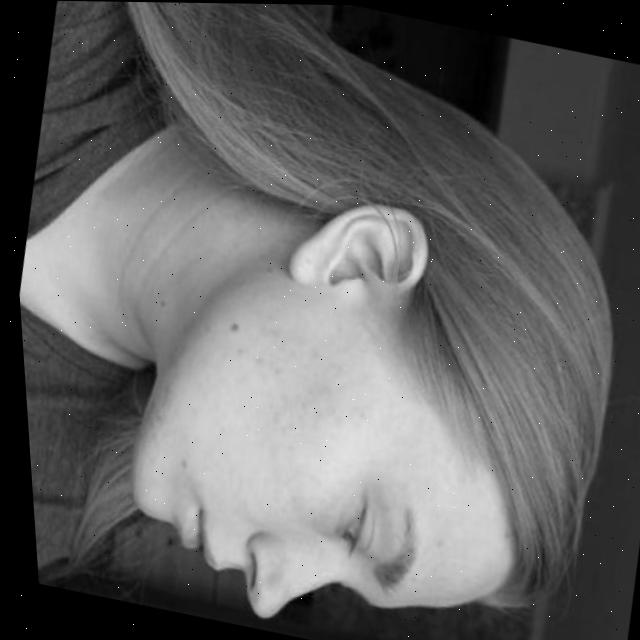Acne: (213, 264, 375, 534)
